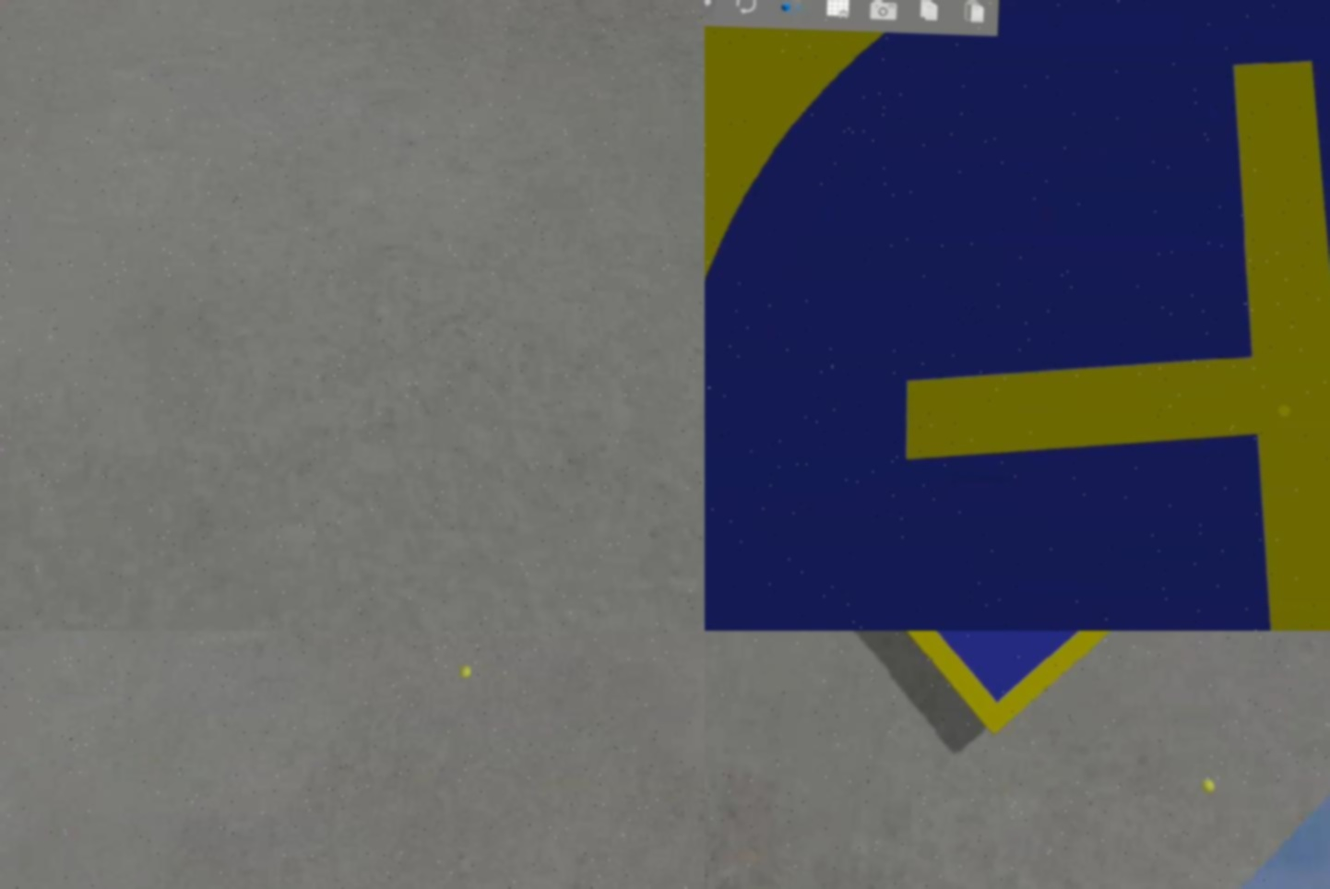large_base: (705, 1, 1330, 631)
small_base: (739, 631, 1292, 742)
